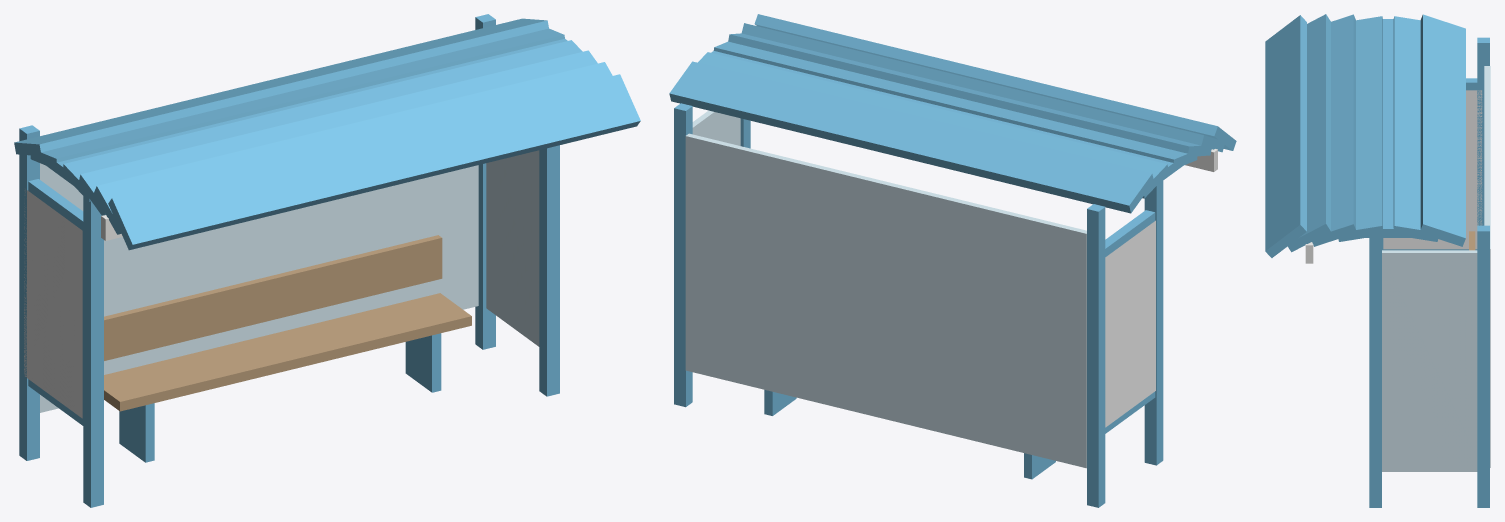
The model's file is VBusShelter.fbx.
3 renders of one model, left to right at view 1: azimuth 30°, elevation 25°; view 2: azimuth 150°, elevation 25°; view 3: azimuth 270°, elevation 25°, orthographic. The views are drawn at different scales.
Visible parts, largest first — view 1: VBusShelter; view 2: VBusShelter; view 3: VBusShelter.
Boxes of the visible parts, <box> form: VBusShelter: <box>14,14,640,507</box>; VBusShelter: <box>669,14,1236,507</box>; VBusShelter: <box>1265,14,1490,507</box>.
Bounding box in the file's own units: 3.95 × 2.53 × 1.77.
